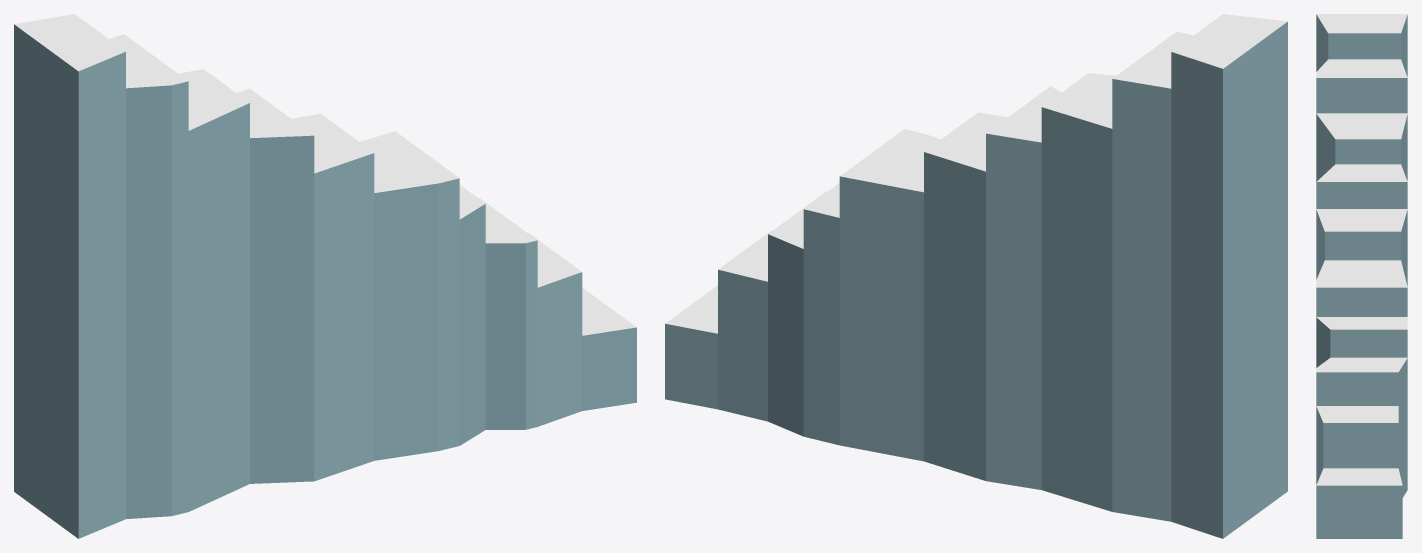
File: Terrain_Tile_Ice_Snow_Stairs_01.fbx
The picture shows the model from 3 angles, left to right: view 1: azimuth 30°, elevation 25°; view 2: azimuth 150°, elevation 25°; view 3: azimuth 270°, elevation 25°; orthographic projection. The views are drawn at different scales.
Visible parts, largest first — view 1: Terrain_Tile_Ice_Snow_Stairs_01; view 2: Terrain_Tile_Ice_Snow_Stairs_01; view 3: Terrain_Tile_Ice_Snow_Stairs_01.
Part boxes in pixels (x1=…): Terrain_Tile_Ice_Snow_Stairs_01: x1=14, y1=14, x2=636, y2=538; Terrain_Tile_Ice_Snow_Stairs_01: x1=665, y1=14, x2=1287, y2=538; Terrain_Tile_Ice_Snow_Stairs_01: x1=1316, y1=14, x2=1407, y2=538.
Size of the model in its own units: 157 by 126 by 31.5.
